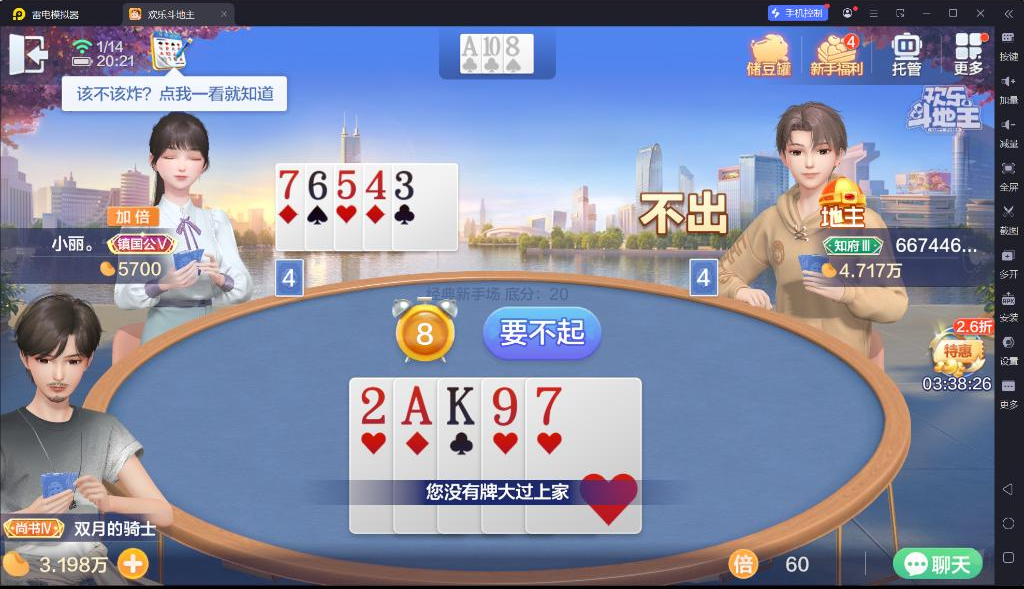A: (400, 384, 435, 428), (460, 34, 479, 58)
K: (441, 383, 477, 426)
eight: (505, 35, 521, 57)
five: (335, 166, 357, 202)
four: (364, 169, 388, 202)
nine: (488, 383, 520, 427)
seven: (531, 382, 564, 426), (278, 166, 301, 202)
six: (307, 168, 330, 201)
ten: (483, 35, 502, 58)
three: (392, 168, 415, 202)
two: (356, 385, 390, 427)
